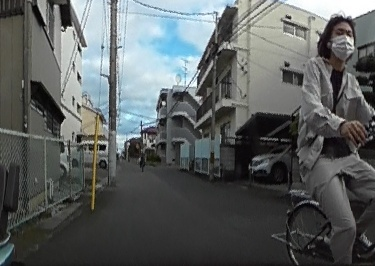person: (302, 9, 375, 266), (138, 147, 146, 170)
